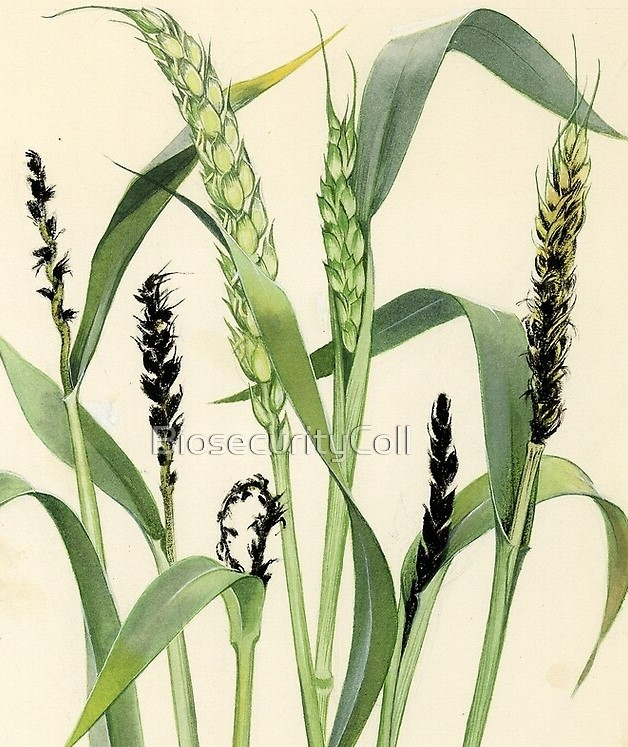Wheat Loose Smut: (130, 264, 195, 453), (418, 379, 472, 578)
